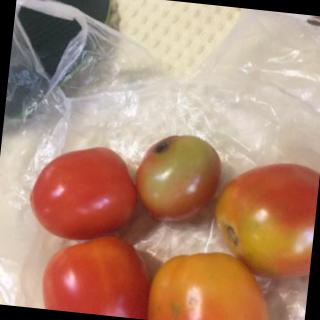Tomat: (13, 102, 320, 320)
